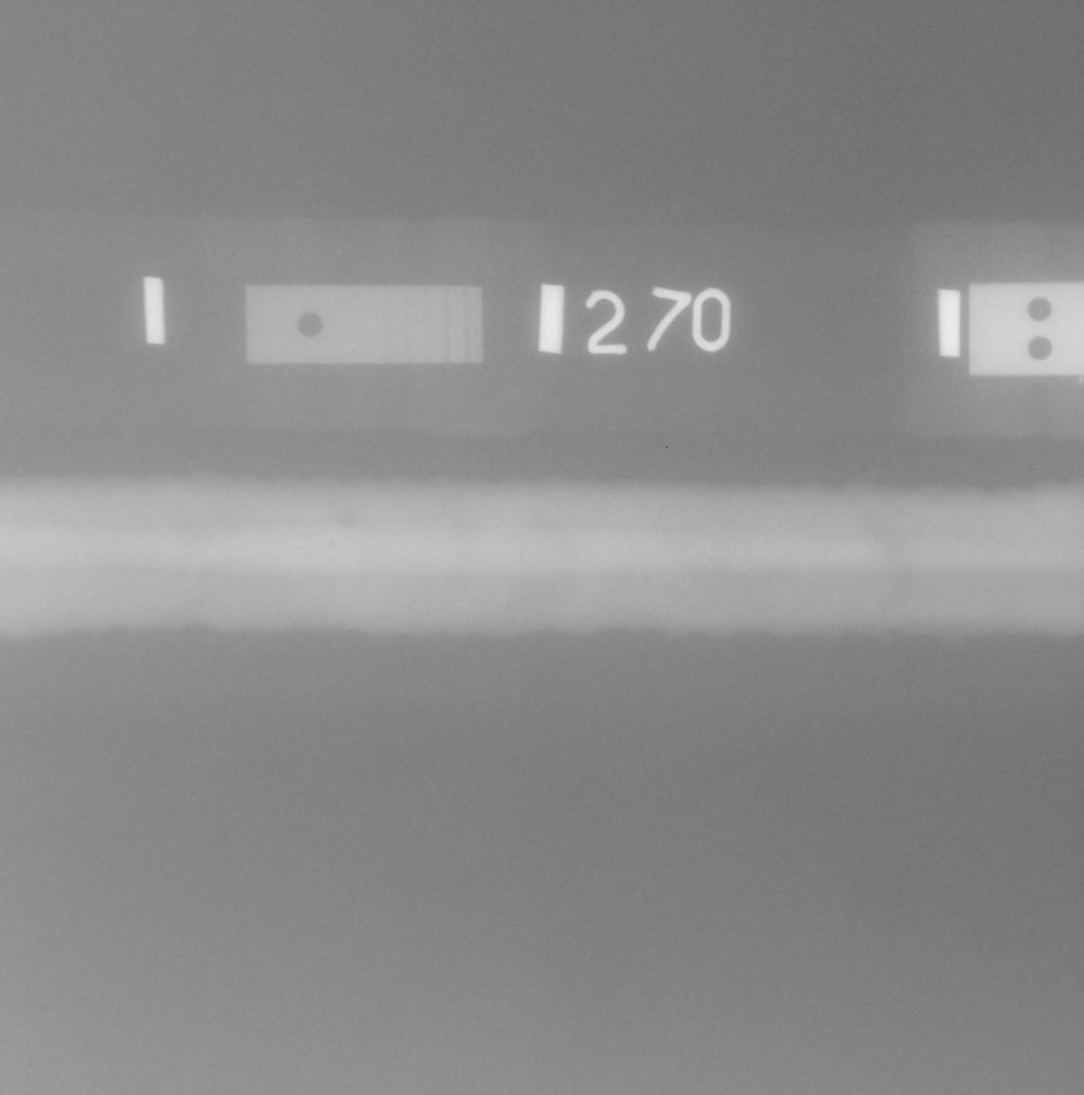Pore/Porosity: (341, 512, 355, 526), (328, 539, 334, 547)
Reference Standard 1: (245, 285, 484, 364)
